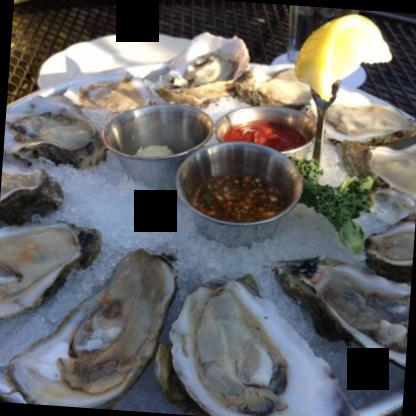oyster: (7, 241, 186, 413), (161, 267, 360, 415), (274, 254, 412, 379), (0, 221, 89, 324), (154, 23, 253, 113), (308, 80, 415, 155), (2, 102, 104, 180), (235, 56, 325, 119), (65, 66, 148, 118), (363, 216, 415, 283), (370, 135, 415, 210)
